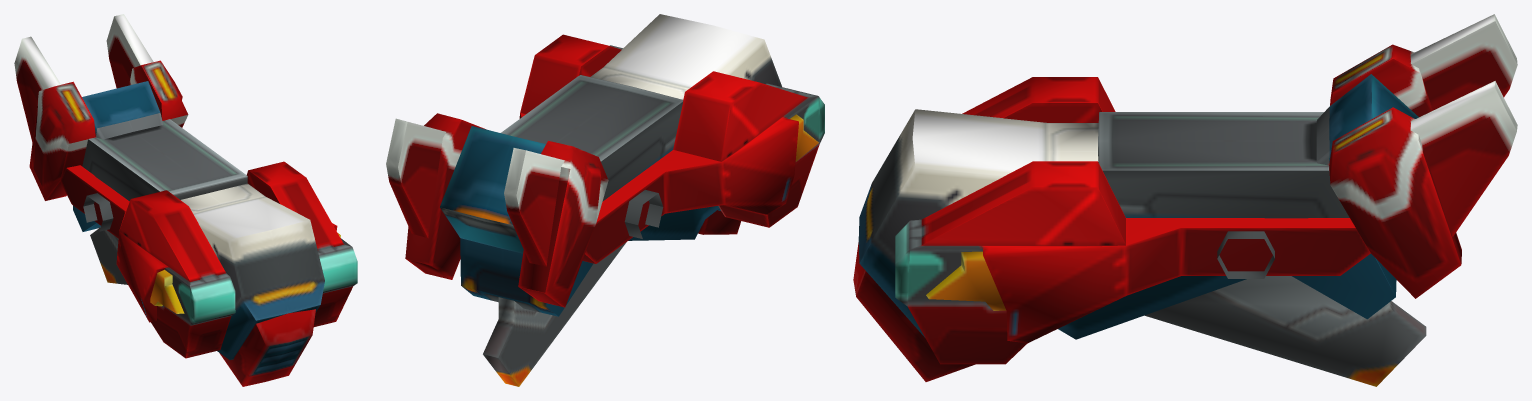
Rendered from datan_common_ball_nova1_8abad8c3.obj.
3 views of the same model, side by side, from view 1: azimuth 30°, elevation 25°; view 2: azimuth 150°, elevation 25°; view 3: azimuth 270°, elevation 25° (orthographic). The views are drawn at different scales.
Visible parts, largest first — view 1: datan_common_ball_nova1_8abad8c3; view 2: datan_common_ball_nova1_8abad8c3; view 3: datan_common_ball_nova1_8abad8c3.
Part boxes in pixels (box(x1,y1,x2,y2)): datan_common_ball_nova1_8abad8c3: box(14, 14, 357, 386); datan_common_ball_nova1_8abad8c3: box(386, 14, 824, 386); datan_common_ball_nova1_8abad8c3: box(853, 14, 1517, 386).
Size of the model in its own units: 1.49 by 1.68 by 3.05.
1 material, 1 textured.
